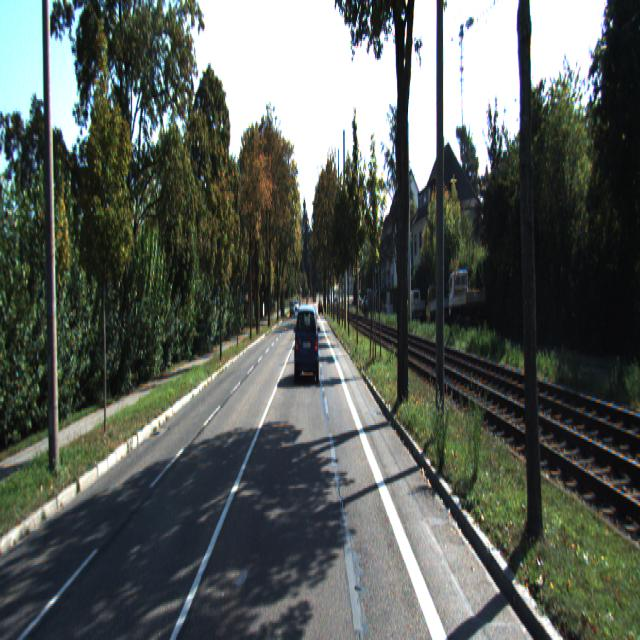Car: (448, 263, 486, 329), (294, 302, 320, 386), (425, 278, 449, 324), (408, 288, 425, 322)
